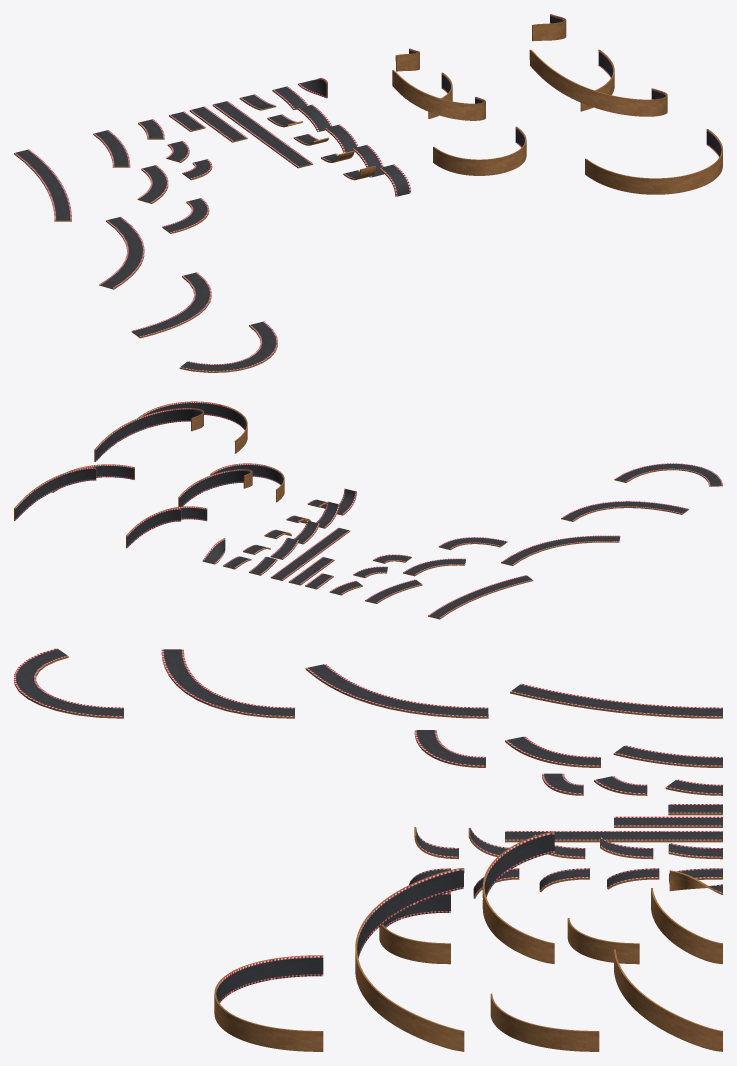
File: roads.glb
3 renders of one model, top to bottom at view 1: azimuth 30°, elevation 25°; view 2: azimuth 150°, elevation 25°; view 3: azimuth 270°, elevation 25°, orthographic. The views are drawn at different scales.
Parts seen in each view (by area): view 1: Road Twist Large 180, Road Twist Up Large 180, Road Twist 180, Road Twist Up 180, Road Corner Long 4, Road Flat Long, Road Corner Long 3, Road Corner Long 2, Road Corner Long 1, Road Flat Medium, Road Corner Medium 3, Road Corner Medium 2 (+2 smaller); view 2: Road Twist Up Large 180, Road Twist Up Large 90, Road Twist Large 180, Road Twist Up 180, Road Corner Long 3, Road Corner Long 2, Road Corner Long 4, Road Corner Long 1, Road Flat Long, Road Twist Up 90, Road Twist 180, Road Twist Large 90 (+5 smaller); view 3: Road Twist Up Large 180, Road Twist Large 180, Road Twist Up 180, Road Twist Up Large 90, Road Corner Long 1, Road Corner Long 2, Road Twist 180, Road Twist Large 90, Road Corner Long 4, Road Corner Long 3, Road Flat Long, Road Twist Up 90 (+11 smaller).
Boxes of the visible parts, bbox=[...] form: Road Twist Large 180: bbox=[585, 129, 722, 194]; Road Twist Up Large 180: bbox=[529, 49, 667, 116]; Road Twist 180: bbox=[433, 126, 526, 175]; Road Twist Up 180: bbox=[392, 70, 485, 120]; Road Corner Long 4: bbox=[179, 321, 277, 372]; Road Flat Long: bbox=[212, 101, 312, 168]; Road Corner Long 3: bbox=[131, 272, 211, 338]; Road Corner Long 2: bbox=[99, 216, 144, 289]; Road Corner Long 1: bbox=[14, 149, 71, 221]; Road Flat Medium: bbox=[189, 106, 247, 142]; Road Corner Medium 3: bbox=[162, 198, 209, 233]; Road Corner Medium 2: bbox=[137, 165, 168, 203]; Road Twist Up Large 180: bbox=[94, 408, 203, 461]; Road Twist Up Large 90: bbox=[14, 467, 96, 520]; Road Twist Large 180: bbox=[138, 401, 247, 453]; Road Twist Up 180: bbox=[178, 469, 252, 506]; Road Corner Long 3: bbox=[561, 501, 688, 521]; Road Corner Long 2: bbox=[501, 535, 620, 565]; Road Corner Long 4: bbox=[614, 463, 722, 486]; Road Corner Long 1: bbox=[428, 575, 533, 619]; Road Flat Long: bbox=[270, 527, 350, 580]; Road Twist Up 90: bbox=[126, 508, 181, 548]; Road Twist 180: bbox=[210, 463, 284, 502]; Road Twist Large 90: bbox=[52, 464, 134, 492]; Road Twist Up Large 180: bbox=[355, 868, 464, 1051]; Road Twist Large 180: bbox=[214, 955, 323, 1051]; Road Twist Up 180: bbox=[482, 832, 554, 963]; Road Twist Up Large 90: bbox=[614, 949, 722, 1051]; Road Corner Long 1: bbox=[510, 683, 722, 718]; Road Corner Long 2: bbox=[305, 664, 488, 718]; Road Twist 180: bbox=[379, 892, 450, 964]; Road Twist Large 90: bbox=[490, 993, 599, 1051]; Road Corner Long 4: bbox=[14, 648, 123, 718]; Road Corner Long 3: bbox=[161, 649, 294, 718]; Road Flat Long: bbox=[505, 831, 722, 842]; Road Twist Up 90: bbox=[651, 888, 722, 964].
Bounding box in the file's own units: 717 × 101 × 546.
Materials: 2 (2 with a texture image).
